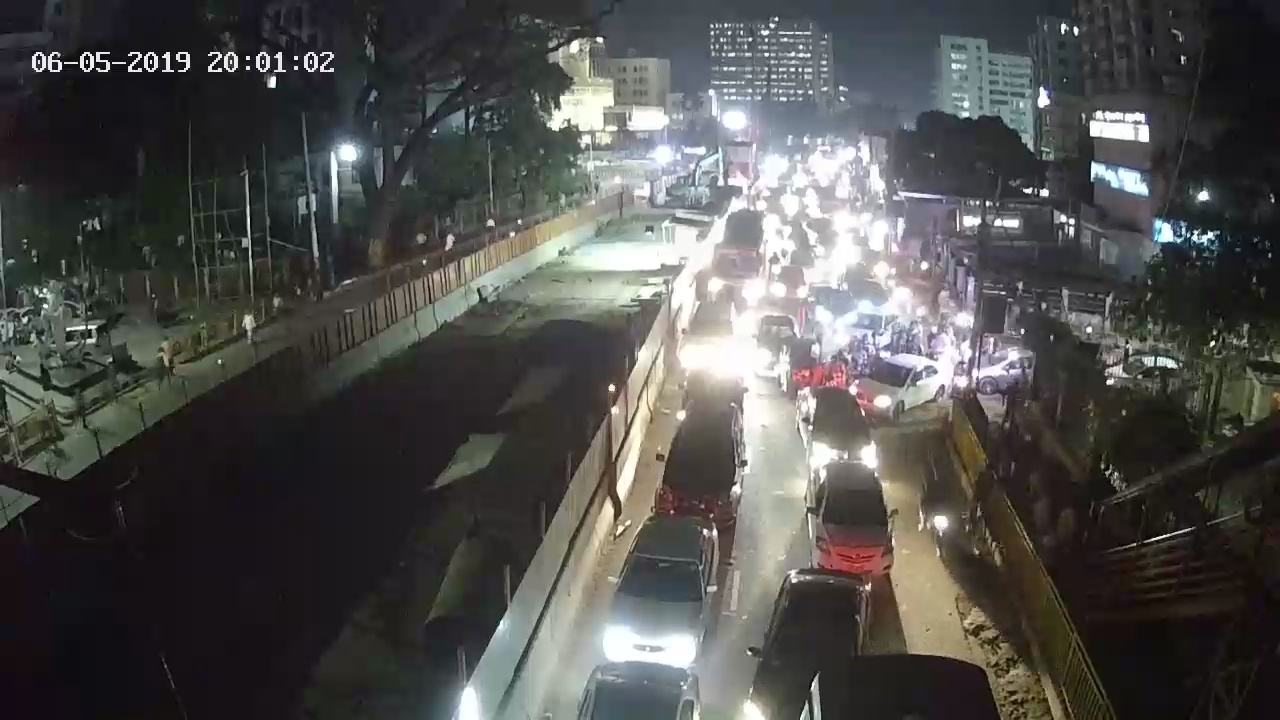fast: (589, 512, 733, 665), (735, 561, 869, 720), (794, 456, 901, 589), (650, 398, 751, 533), (785, 372, 896, 477), (835, 351, 961, 427), (666, 293, 746, 375), (902, 473, 960, 562), (752, 305, 810, 375)
